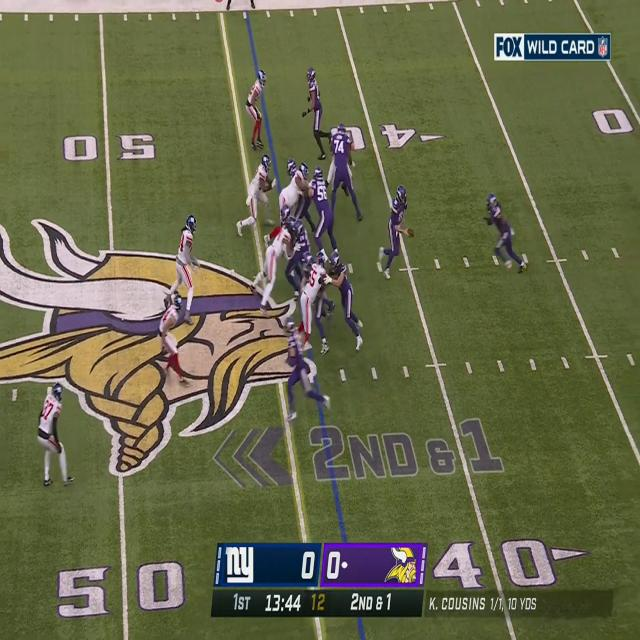football: (408, 228, 415, 237)
players: (249, 216, 296, 318), (285, 318, 330, 421), (164, 215, 202, 328), (37, 382, 75, 488), (324, 254, 364, 354), (264, 164, 310, 247), (328, 123, 364, 221), (484, 194, 526, 275), (237, 155, 277, 237), (379, 184, 411, 281), (158, 294, 191, 386), (302, 68, 332, 161), (300, 253, 329, 340), (309, 167, 337, 255), (246, 70, 267, 150), (293, 220, 310, 270)
